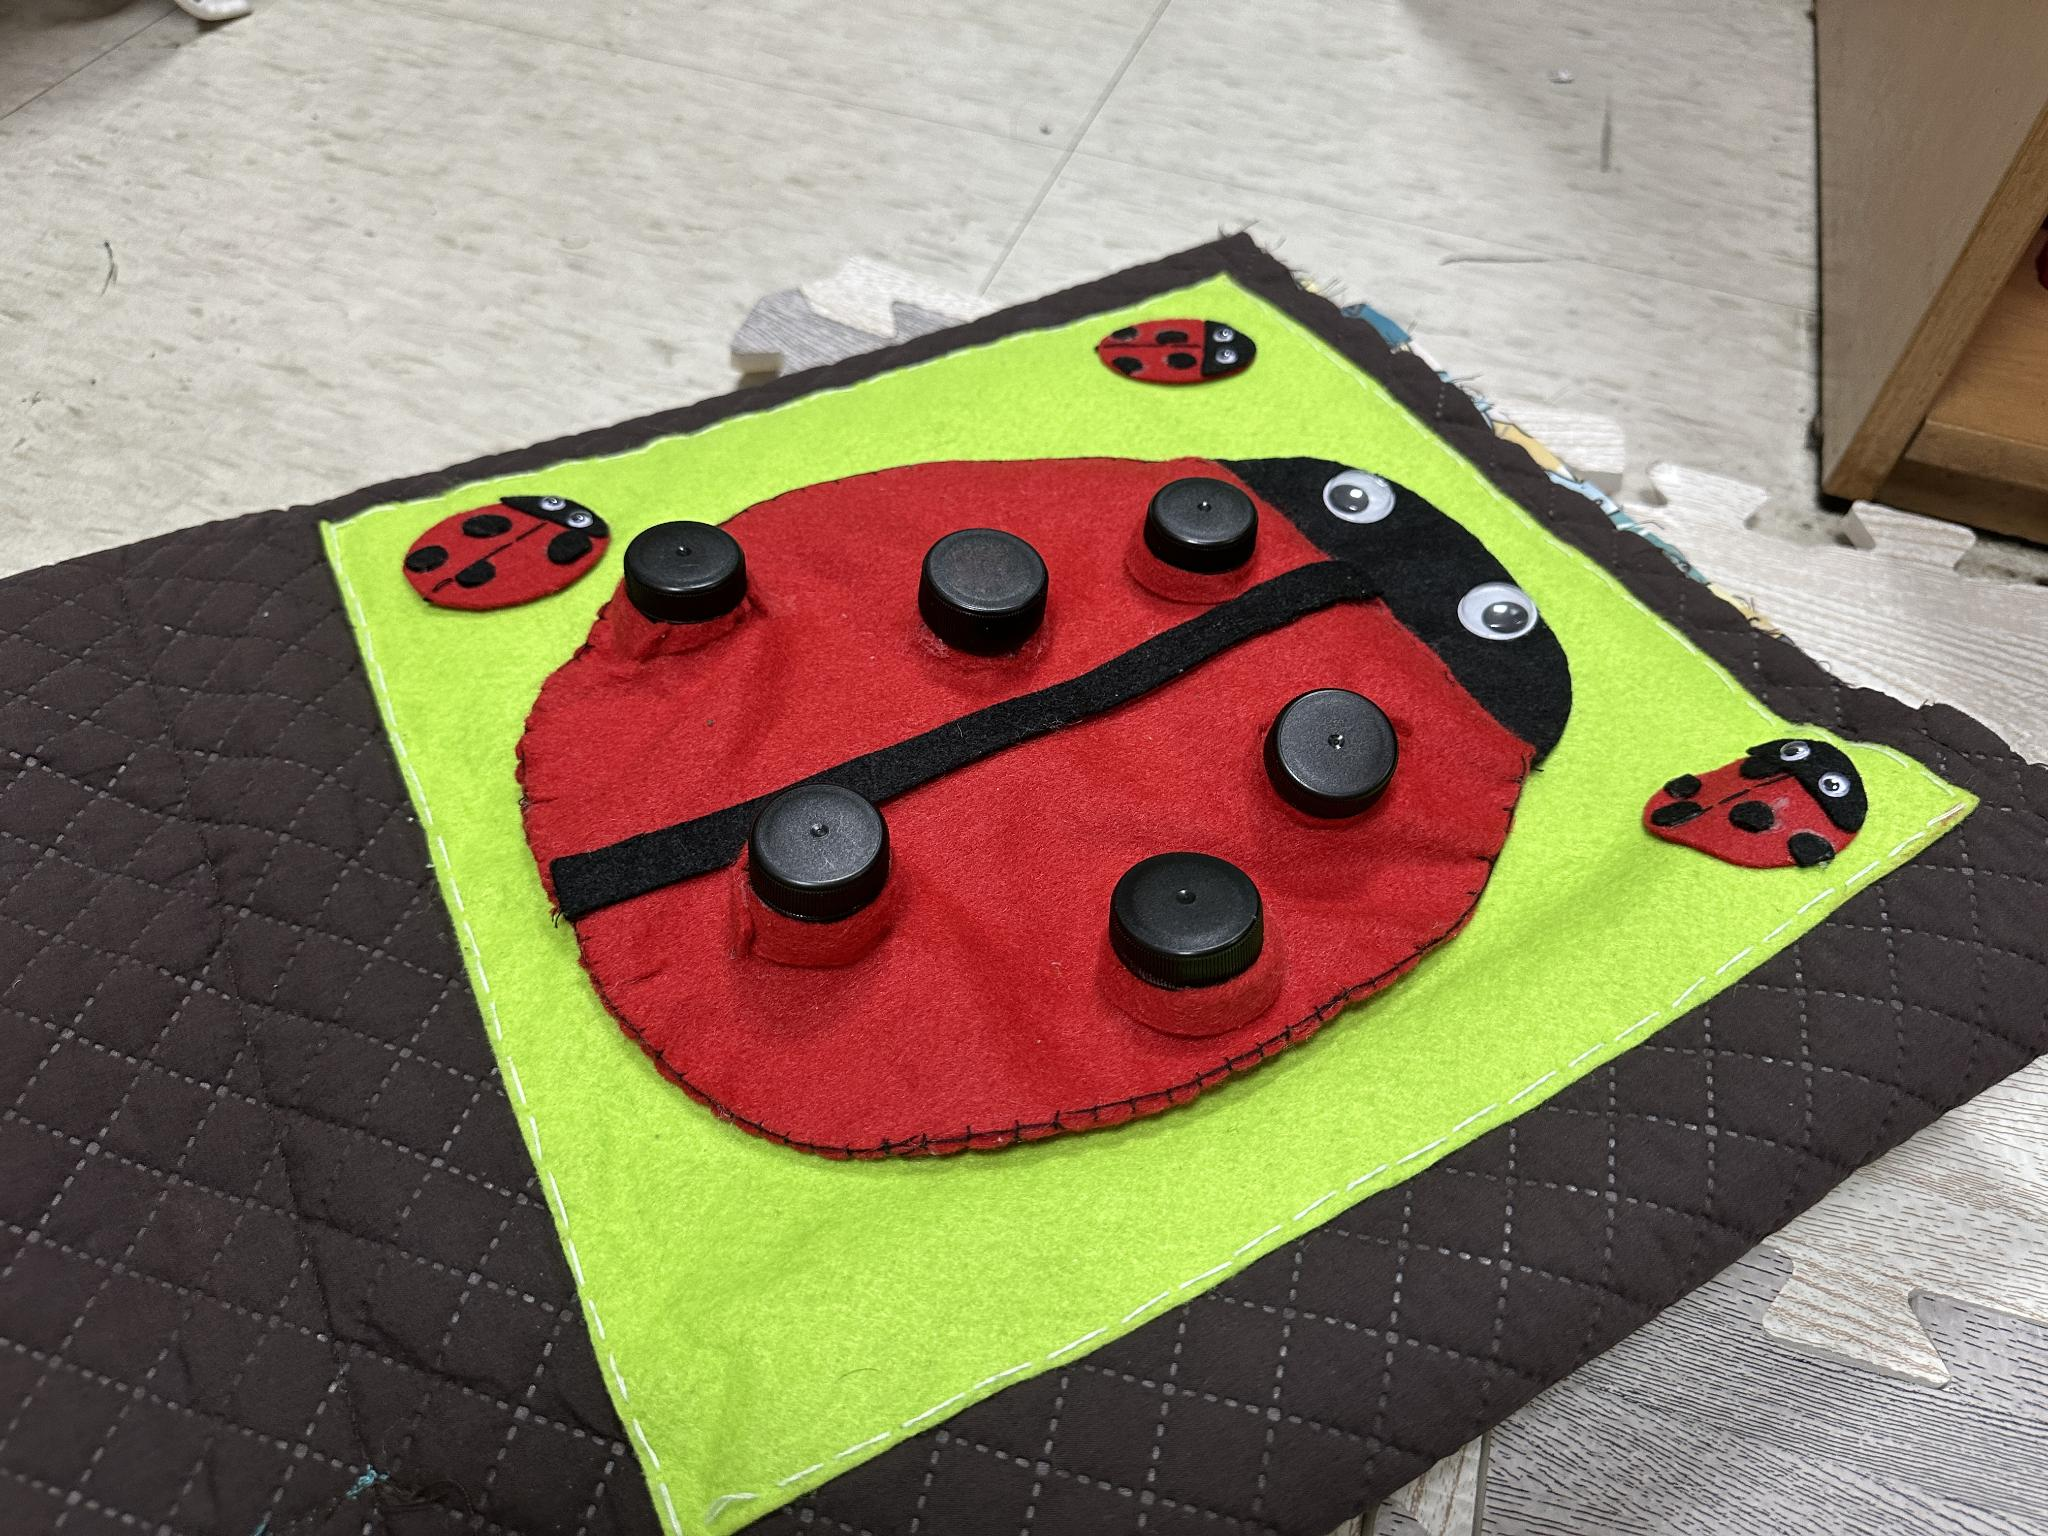cap_ok: (729, 755, 934, 958), (1087, 823, 1297, 1015), (1250, 652, 1432, 855), (597, 502, 790, 665), (897, 510, 1077, 674), (1130, 470, 1274, 608)
